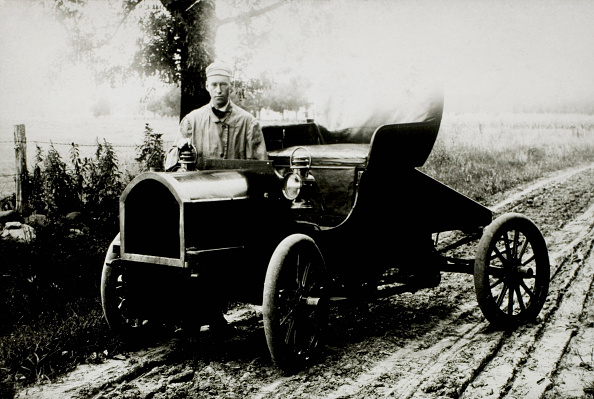em pe: (183, 62, 257, 181)
